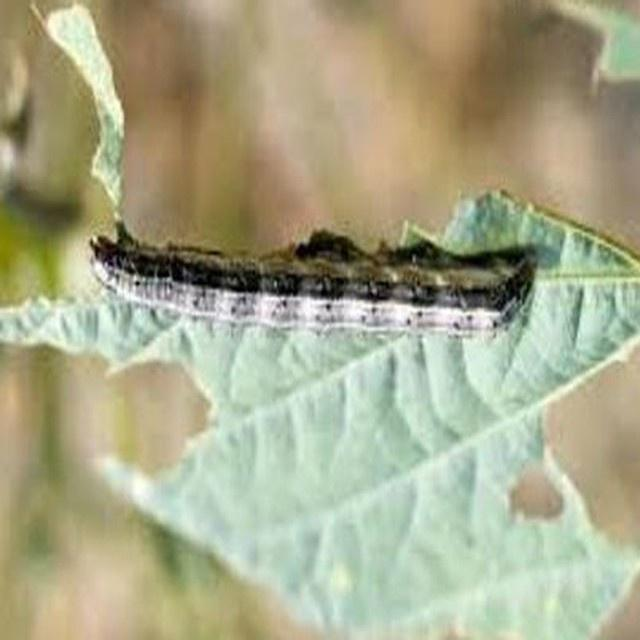gusano_cogollero: (86, 222, 536, 332)
